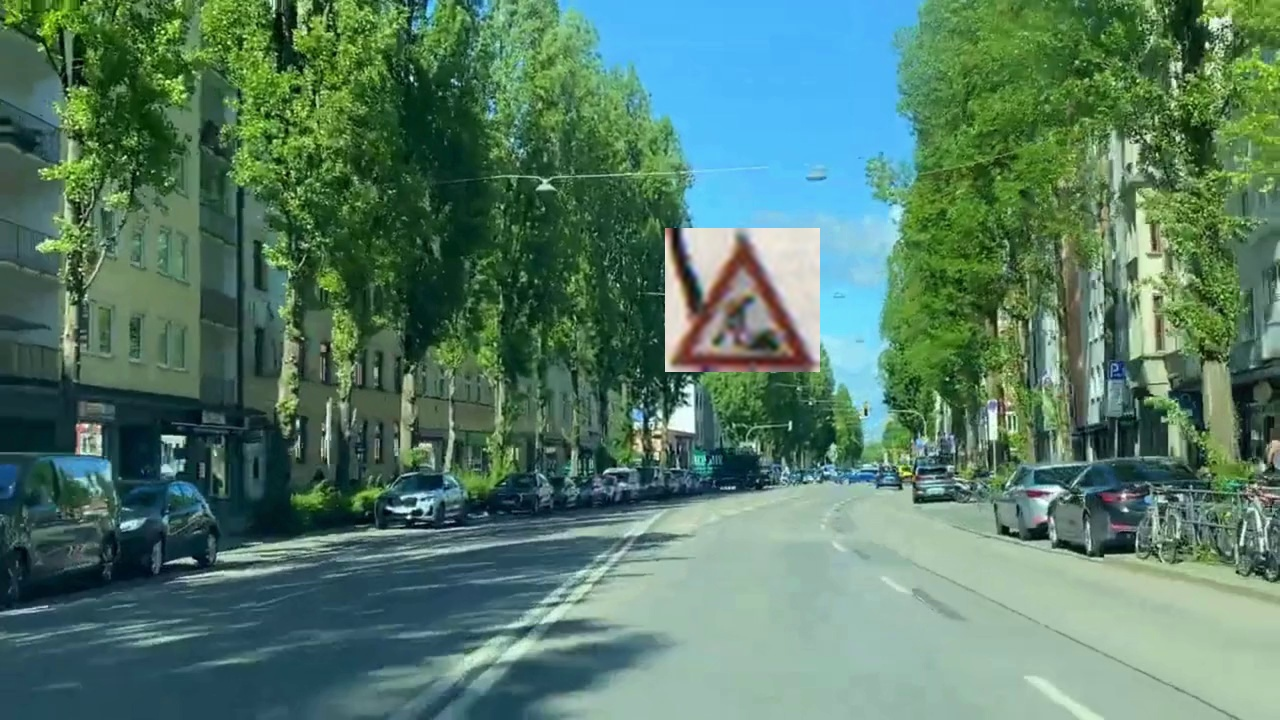Road work: (665, 228, 820, 372)
